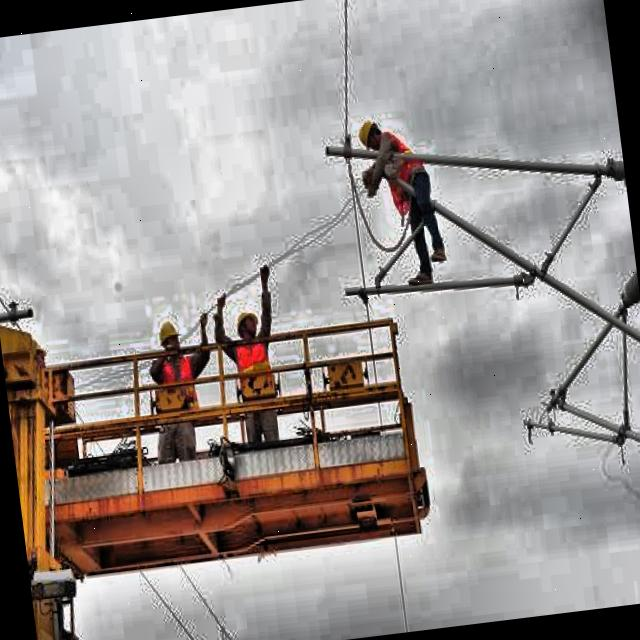helmet: (356, 110, 386, 156), (155, 318, 182, 363), (230, 304, 258, 346)
